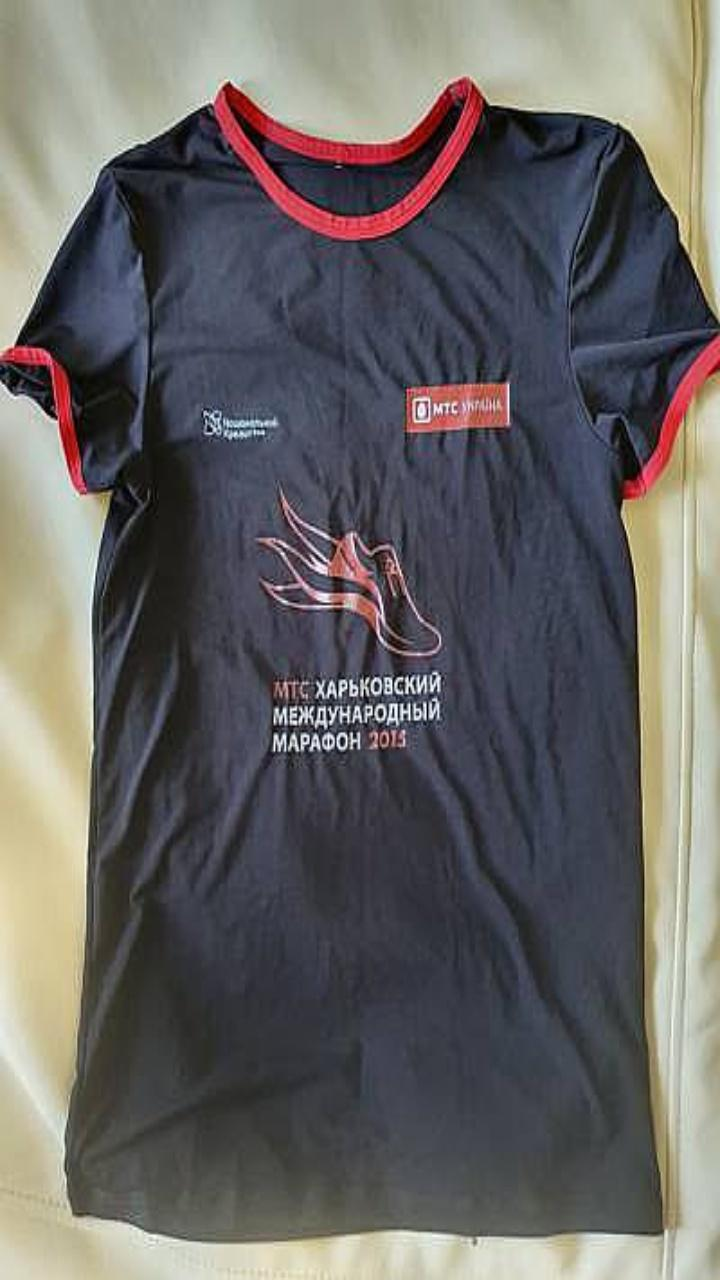T-Shirt: (0, 75, 719, 1240)
